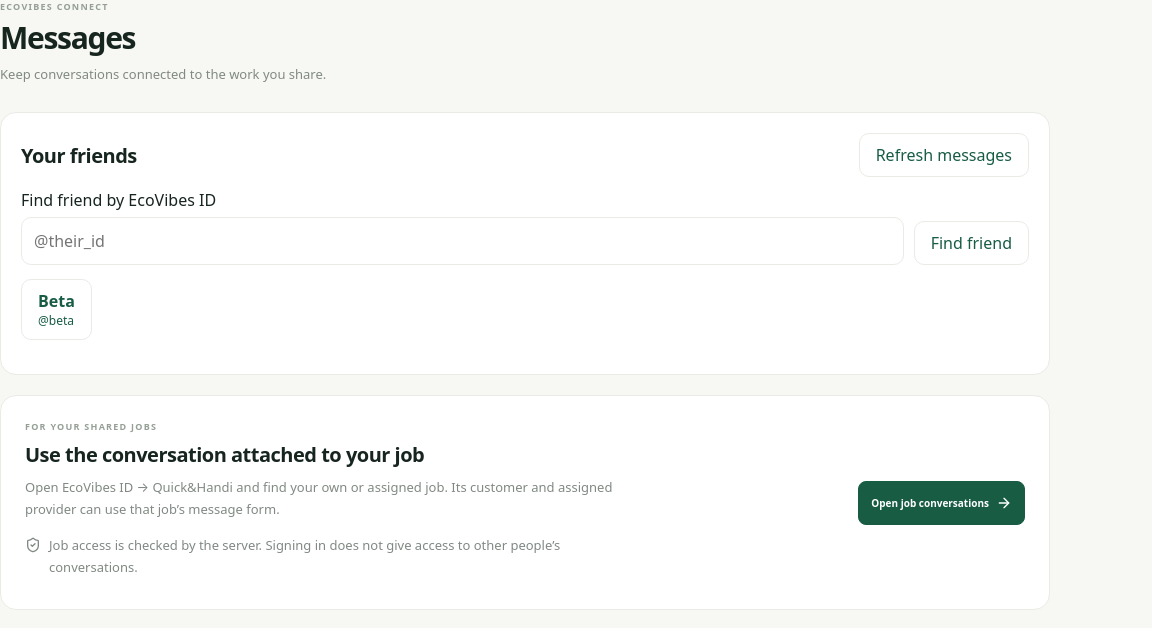
Test: accepted-friend text conversations › shows two ticks only from a server-confirmed recipient acknowledgement
Click the button with aria-label "Message Beta" at (56, 310), box x1=21 y1=279 x2=92 y2=340
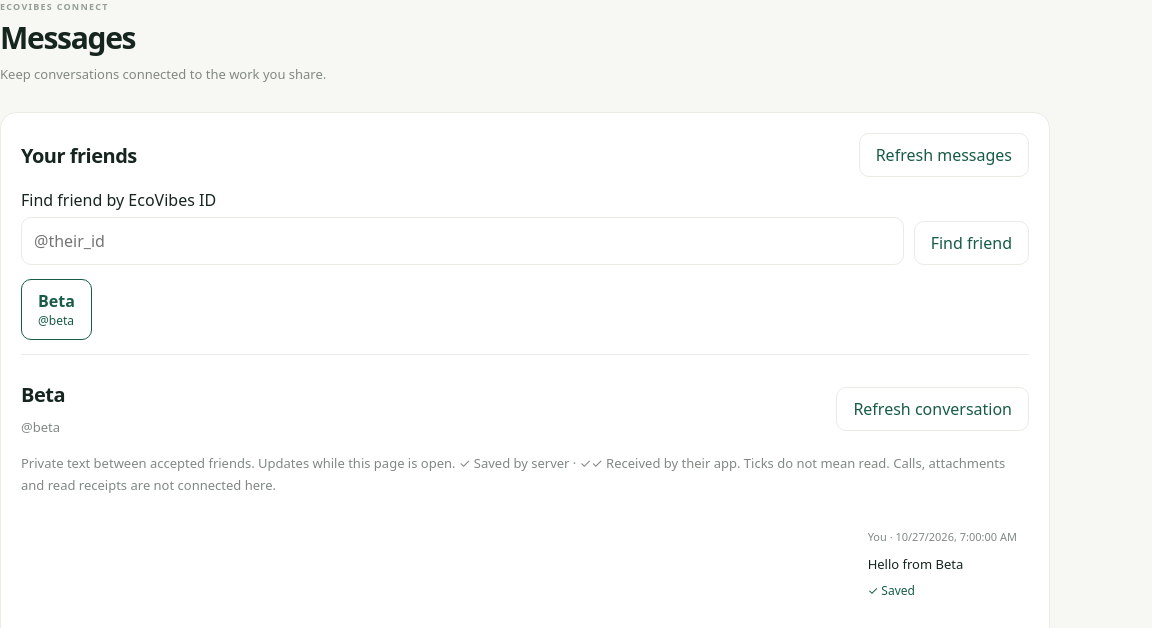
Check: the text named "Saved by server" is shown, box x1=868 y1=582 x2=915 y2=600
Click the button "Refresh conversation" at (933, 409), box x1=836 y1=387 x2=1029 y2=431
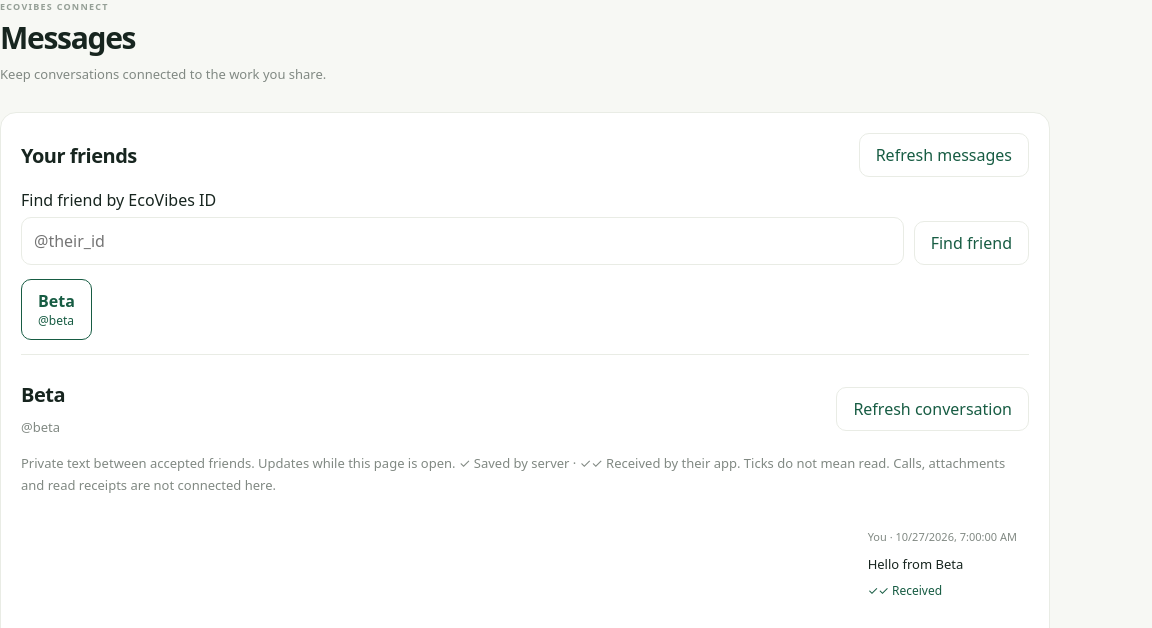
Check: the text named "Received by their app" is shown, box x1=868 y1=582 x2=942 y2=600
